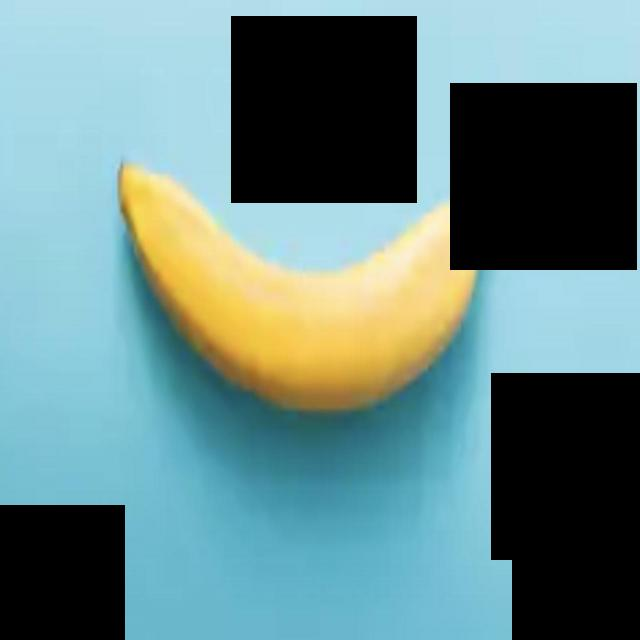banana: (77, 53, 564, 530)
